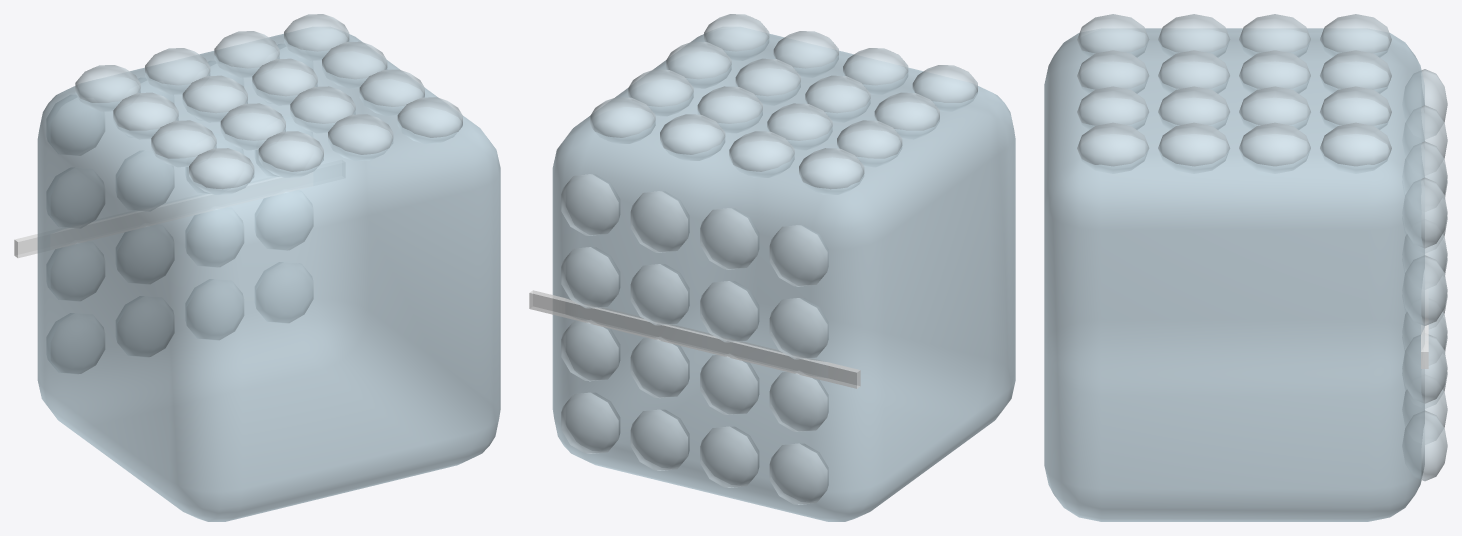
The model's file is piece_bubble.fbx.
3 renders of one model, left to right at view 1: azimuth 30°, elevation 25°; view 2: azimuth 150°, elevation 25°; view 3: azimuth 270°, elevation 25°, orthographic. The views are drawn at different scales.
Parts seen in each view (by area): view 1: piece_bubble; view 2: piece_bubble; view 3: piece_bubble.
Part boxes in pixels (<box>): piece_bubble: <box>14,14,500,521</box>; piece_bubble: <box>529,14,1015,521</box>; piece_bubble: <box>1044,14,1447,521</box>.
Size of the model in its own units: 0.212 by 0.222 by 0.212.
